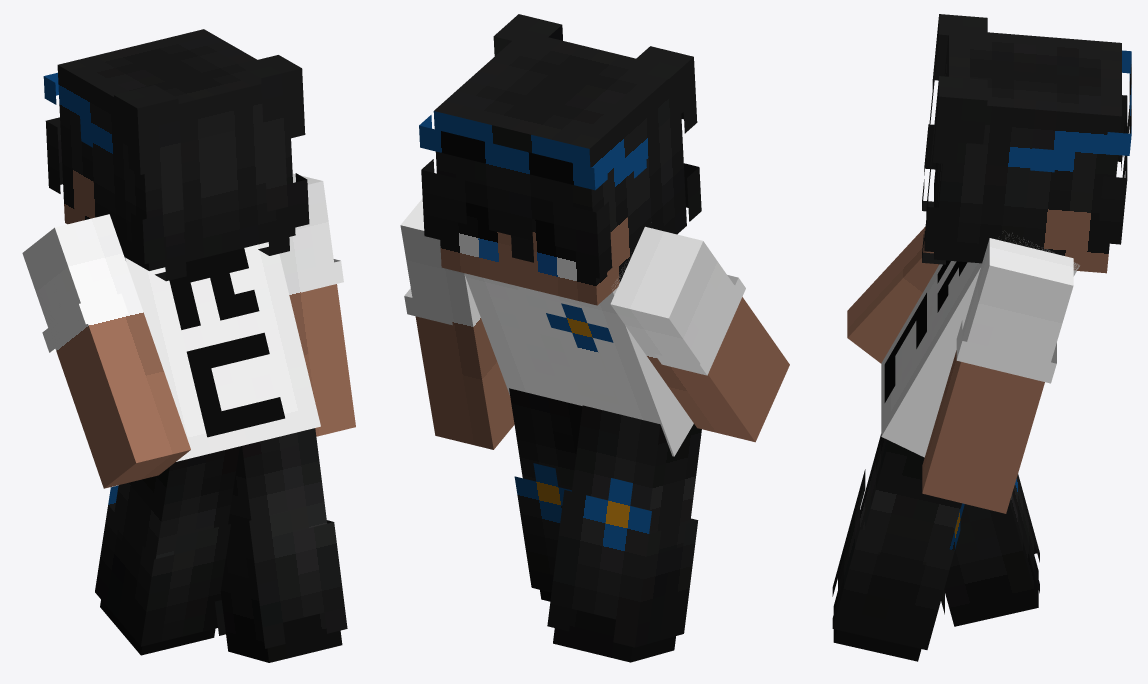
File: Riduan.gltf
3 views of the same model, side by side, from view 1: azimuth 30°, elevation 25°; view 2: azimuth 150°, elevation 25°; view 3: azimuth 270°, elevation 25° (orthographic). The views are drawn at different scales.
Parts seen in each view (by area): view 1: Head, Left Arm, Body, Hat Layer, Right Leg, Left Leg Layer, Left Leg, Right Leg Layer, Right Arm, Body Layer, Left Arm Layer, Right Arm Layer; view 2: Head, Left Arm, Hat Layer, Left Leg Layer, Body, Left Leg, Right Arm, Right Leg, Right Leg Layer, Body Layer, Left Arm Layer, Right Arm Layer; view 3: Head, Right Arm, Hat Layer, Right Leg Layer, Body, Right Leg, Left Leg, Left Arm, Right Arm Layer, Body Layer, Left Leg Layer.
Part boxes in pixels (bbox=[...]): Head: bbox=[57, 29, 295, 270]; Left Arm: bbox=[22, 214, 190, 488]; Body: bbox=[124, 242, 320, 461]; Hat Layer: bbox=[43, 55, 309, 281]; Right Leg: bbox=[220, 428, 342, 662]; Left Leg Layer: bbox=[95, 485, 230, 646]; Left Leg: bbox=[100, 446, 239, 655]; Right Leg Layer: bbox=[215, 511, 347, 648]; Right Arm: bbox=[279, 173, 355, 436]; Body Layer: bbox=[169, 248, 284, 437]; Left Arm Layer: bbox=[42, 293, 128, 352]; Right Arm Layer: bbox=[298, 259, 343, 292]; Head: bbox=[433, 37, 686, 305]; Left Arm: bbox=[610, 226, 789, 442]; Hat Layer: bbox=[419, 14, 701, 278]; Left Leg Layer: bbox=[547, 478, 698, 647]; Body: bbox=[464, 269, 693, 456]; Left Leg: bbox=[553, 405, 701, 662]; Right Arm: bbox=[400, 198, 514, 449]; Right Leg: bbox=[509, 388, 582, 601]; Right Leg Layer: bbox=[514, 463, 571, 592]; Body Layer: bbox=[517, 286, 614, 396]; Left Arm Layer: bbox=[654, 275, 745, 375]; Right Arm Layer: bbox=[404, 288, 452, 325]; Head: bbox=[934, 32, 1121, 273]; Right Arm: bbox=[922, 238, 1073, 513]; Hat Layer: bbox=[922, 14, 1131, 264]; Right Leg Layer: bbox=[832, 469, 964, 649]; Body: bbox=[881, 233, 1079, 457]; Right Leg: bbox=[833, 434, 961, 661]; Left Leg: bbox=[944, 494, 1038, 626]; Left Arm: bbox=[847, 226, 939, 363]; Right Arm Layer: bbox=[956, 320, 1056, 383]; Body Layer: bbox=[884, 260, 967, 402]; Left Leg Layer: bbox=[941, 474, 1039, 614].
Bounding box in the file's own units: 0.9062 × 1.83 × 0.8825.
Materials: 1 (1 with a texture image).
